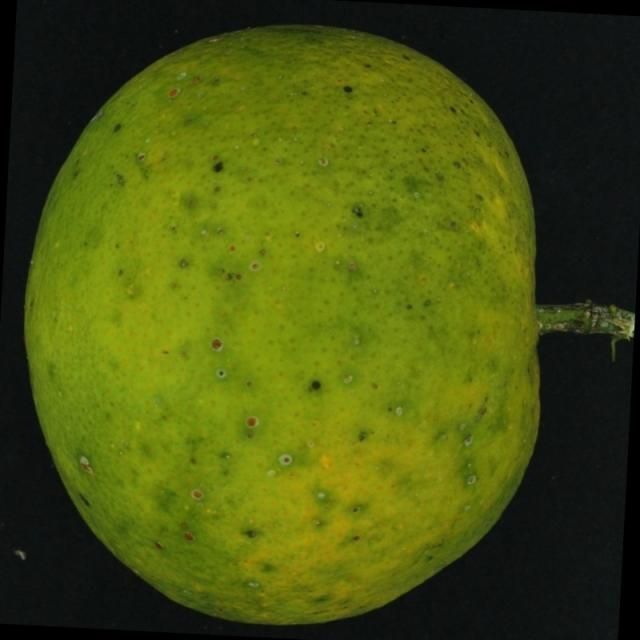grenning: (22, 18, 638, 627)
